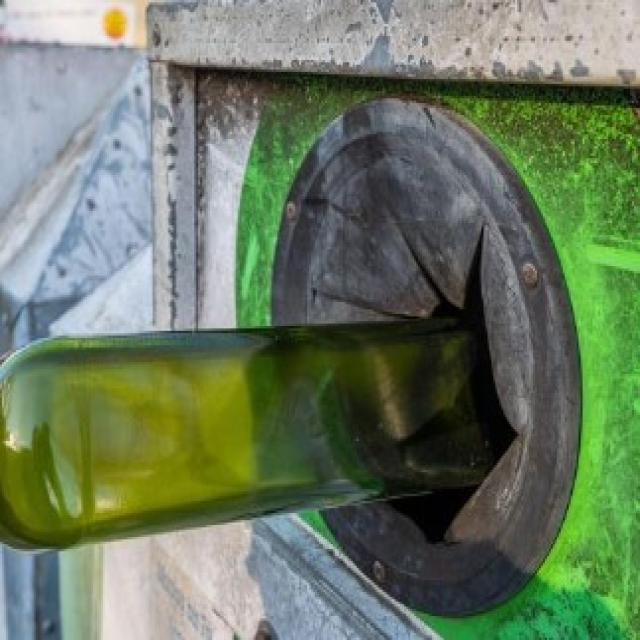electronic: (1, 327, 547, 551)
